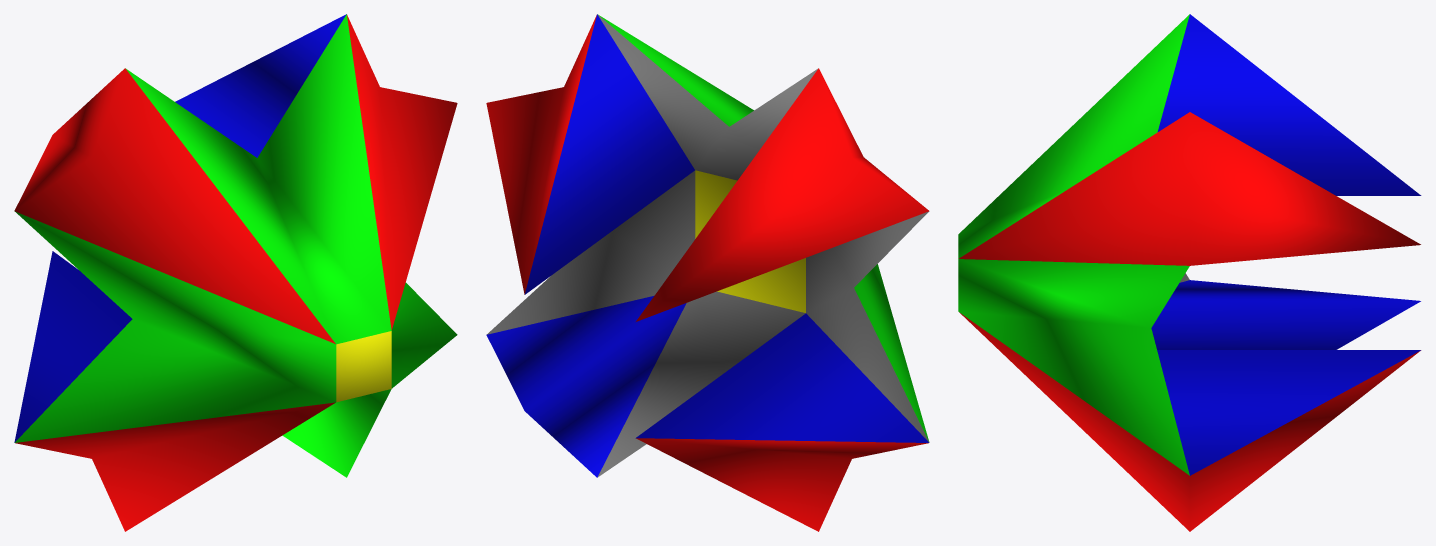
Rendered from enemy ship.fbx.
The picture shows the model from 3 angles, left to right: view 1: azimuth 30°, elevation 25°; view 2: azimuth 150°, elevation 25°; view 3: azimuth 270°, elevation 25°; orthographic projection. The views are drawn at different scales.
Parts seen in each view (by area): view 1: Enemy_Ship; view 2: Enemy_Ship; view 3: Enemy_Ship.
Part boxes in pixels (x1=…): Enemy_Ship: x1=14, y1=14, x2=457, y2=531; Enemy_Ship: x1=486, y1=14, x2=929, y2=531; Enemy_Ship: x1=958, y1=14, x2=1421, y2=531.
Bounding box in the file's own units: 3 × 3 × 3.
